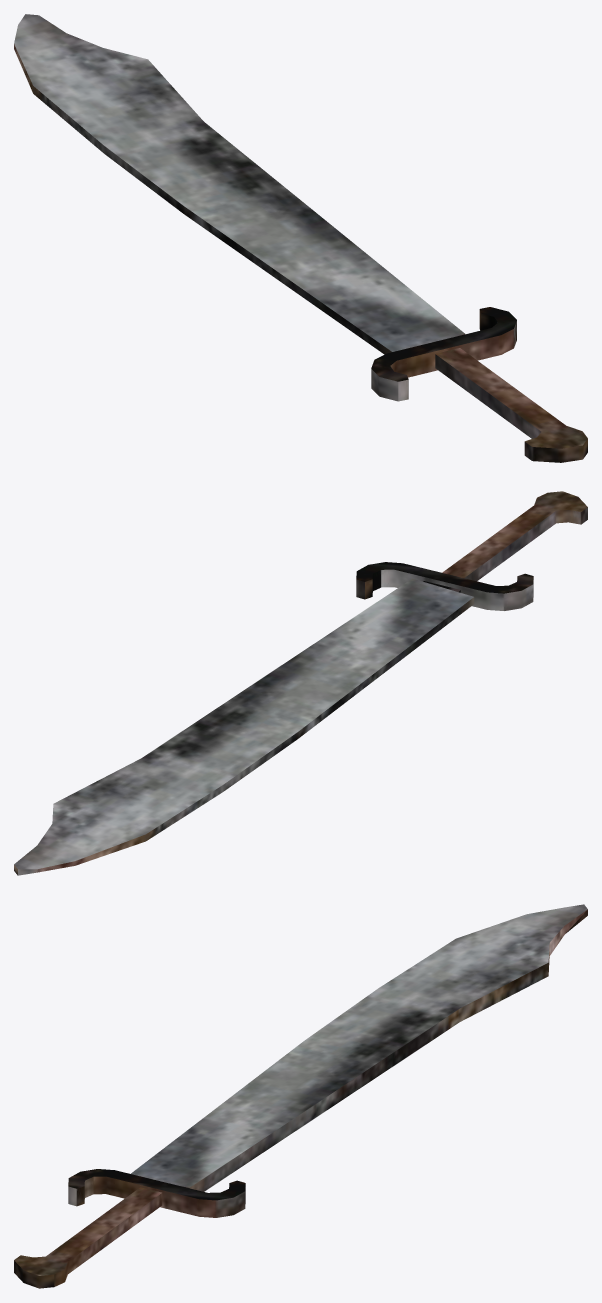
3 views of the same model, one above another, from view 1: azimuth 30°, elevation 25°; view 2: azimuth 150°, elevation 25°; view 3: azimuth 330°, elevation 25° (orthographic). The views are drawn at different scales.
Visible parts, largest first — view 1: mesh_0; view 2: mesh_0; view 3: mesh_0.
Boxes of the visible parts, bbox=[...] form: mesh_0: bbox=[14, 14, 587, 462]; mesh_0: bbox=[14, 491, 587, 875]; mesh_0: bbox=[14, 904, 587, 1288].
Bounding box in the file's own units: 6.36 × 0.7316 × 39.28.
1 material, 1 textured.
